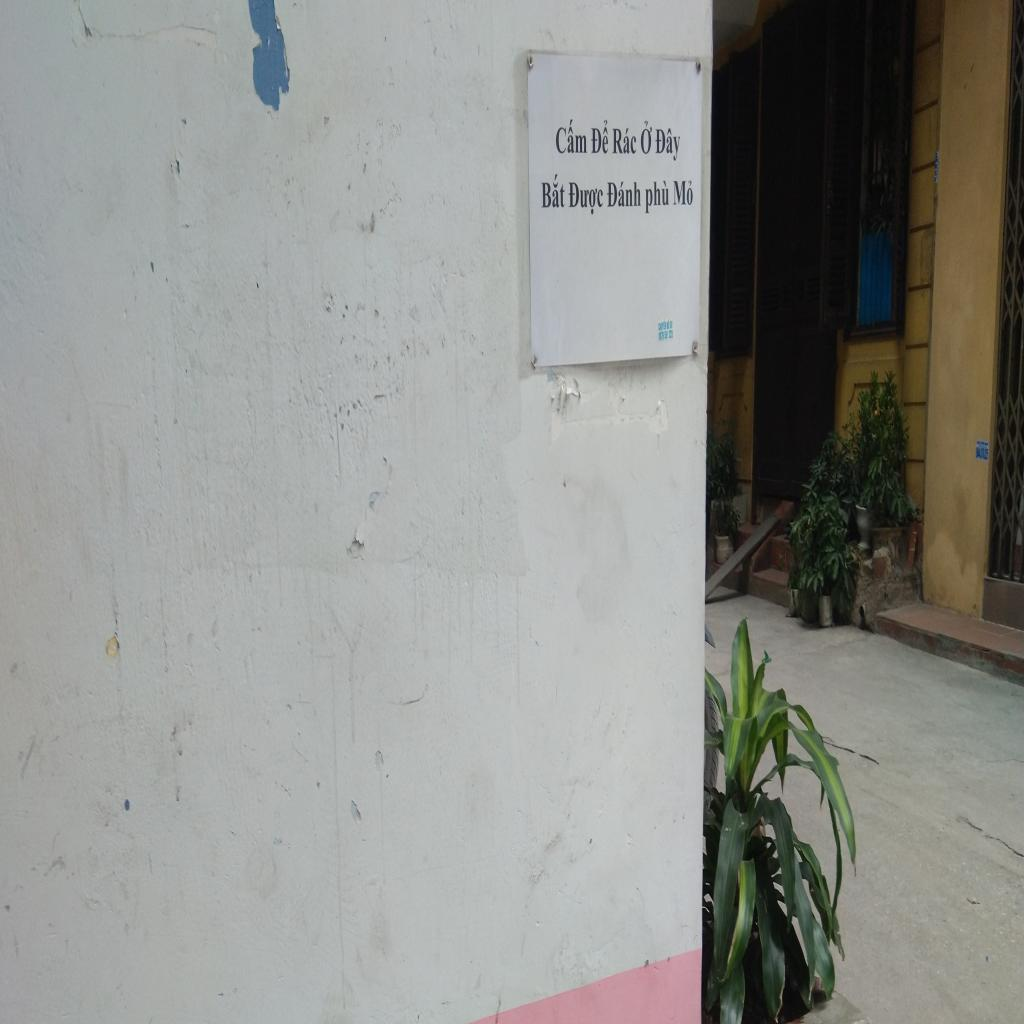text: (554, 115, 590, 161), (567, 174, 604, 218), (605, 176, 642, 212), (654, 122, 684, 164), (539, 168, 566, 212), (610, 118, 638, 160), (643, 176, 671, 217), (589, 114, 611, 156), (671, 174, 696, 208), (639, 115, 655, 161), (657, 318, 667, 332), (658, 331, 664, 341), (664, 330, 668, 340), (669, 329, 673, 339), (667, 318, 670, 330), (670, 319, 673, 330)
